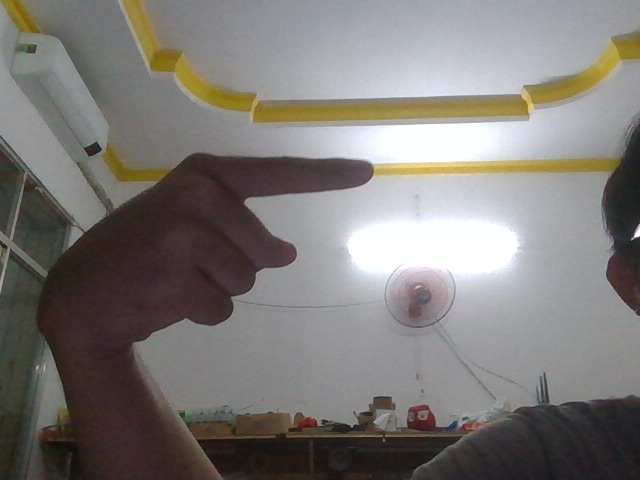turn_left: (34, 144, 384, 354)
